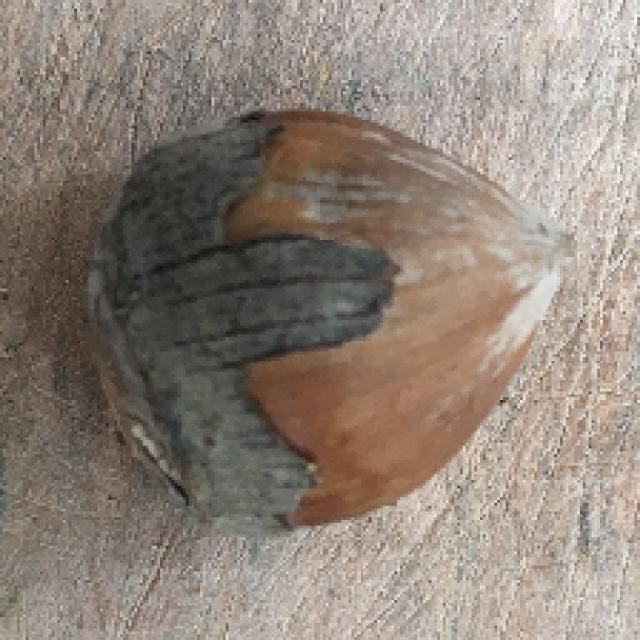damagedHazelnut: (74, 100, 578, 536)
